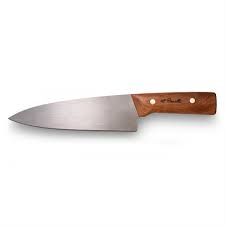knife: (6, 86, 222, 139)
